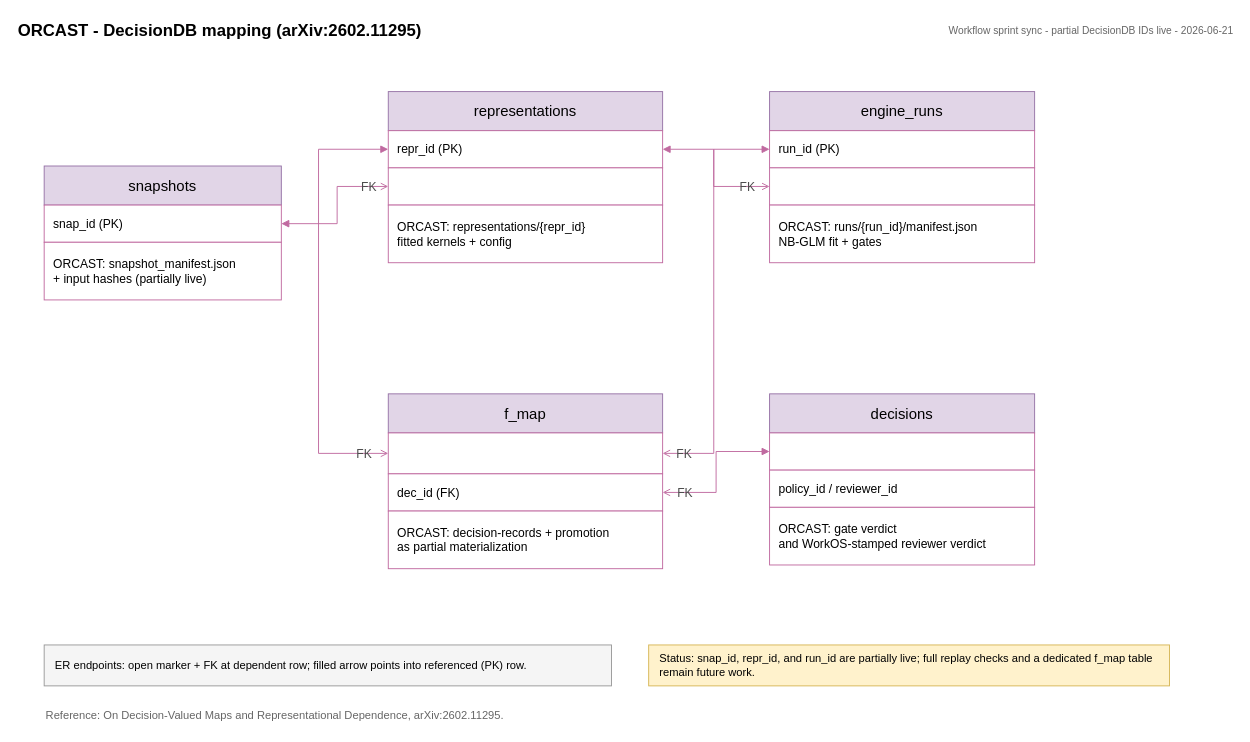
Image size: 1250x742. Some labels were removed from this diagram. Here are the shapes that lost their labels. From the top down, the box of each, then its label:
(387, 167, 663, 205): snapshot_id (FK)
(769, 167, 1035, 205): repr_id (FK)
(387, 432, 663, 474): repr_id, run_id (PK, logical FK)
(769, 432, 1035, 470): dec_id (PK)
